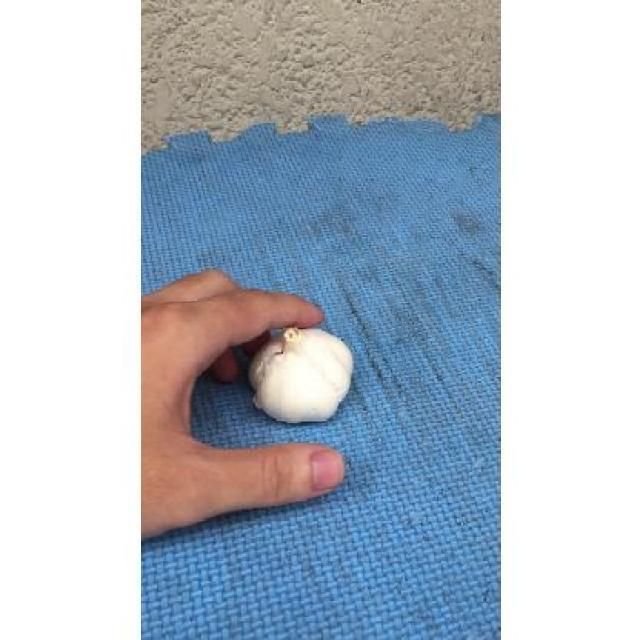Garlic: (225, 304, 381, 441)
